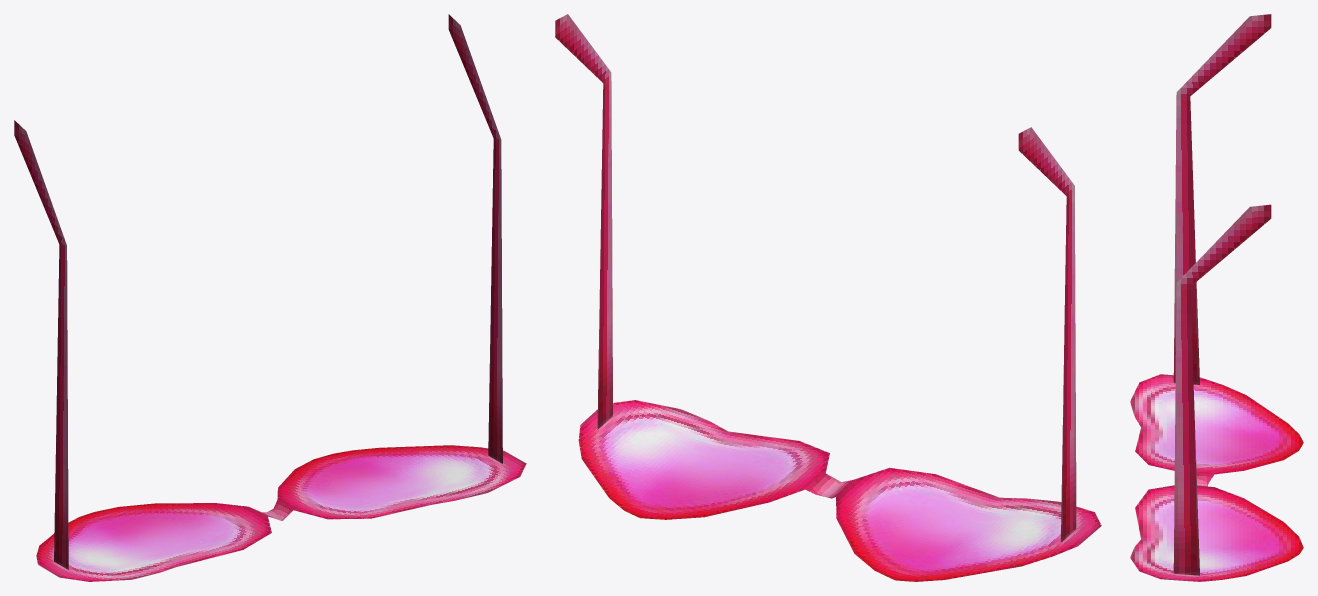
Rendered from tt_m_chr_avt_acc_msk_heartGlasses.glb.
3 views of the same model, side by side, from view 1: azimuth 30°, elevation 25°; view 2: azimuth 150°, elevation 25°; view 3: azimuth 270°, elevation 25° (orthographic). The views are drawn at different scales.
Visible parts, largest first — view 1: tt_m_chr_avt_acc_msk_hearts; view 2: tt_m_chr_avt_acc_msk_hearts; view 3: tt_m_chr_avt_acc_msk_hearts.
Boxes of the visible parts, x1,y1,x2,y2 form: tt_m_chr_avt_acc_msk_hearts: [14, 14, 526, 581]; tt_m_chr_avt_acc_msk_hearts: [555, 14, 1101, 581]; tt_m_chr_avt_acc_msk_hearts: [1130, 14, 1303, 581].
Bounding box in the file's own units: 3.69 × 3.24 × 1.32.
Materials: 1 (1 with a texture image).
